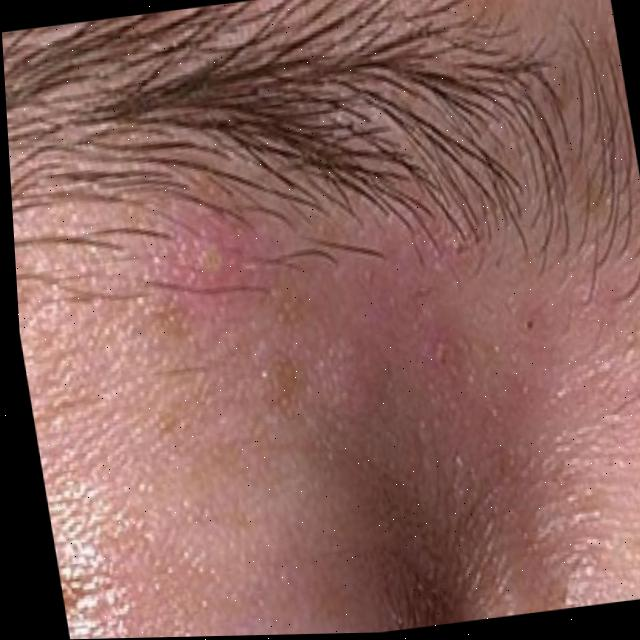Rosacea: (170, 215, 256, 313)
